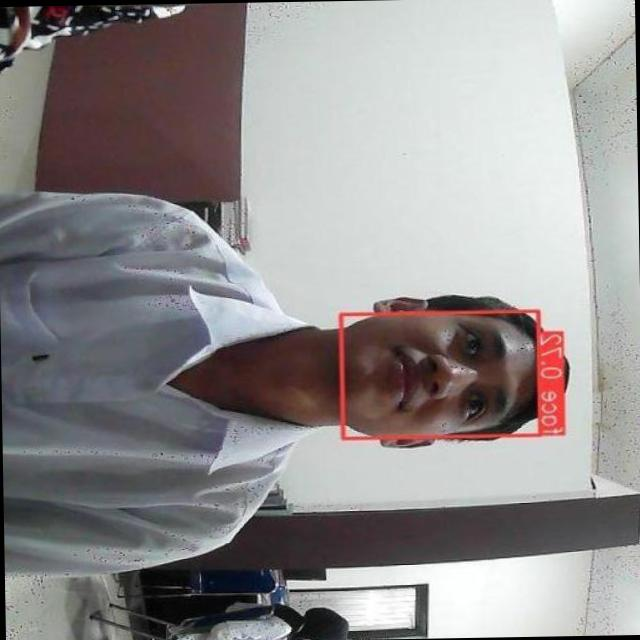bareface: (318, 312, 550, 446)
